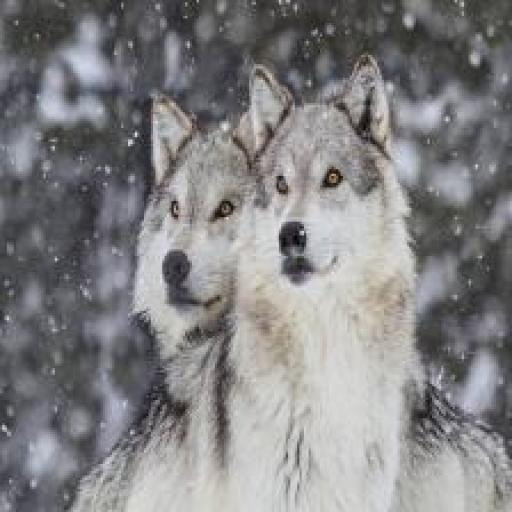wolf: (235, 48, 431, 512), (123, 55, 231, 385)
